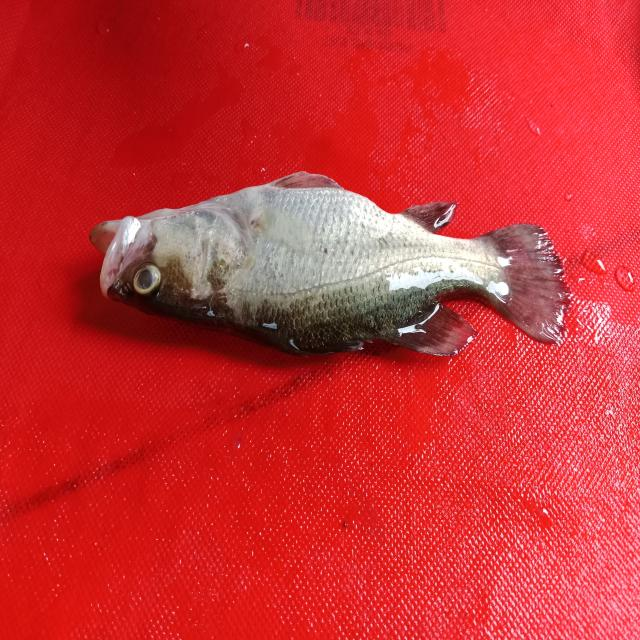ikan: (81, 144, 601, 391)
